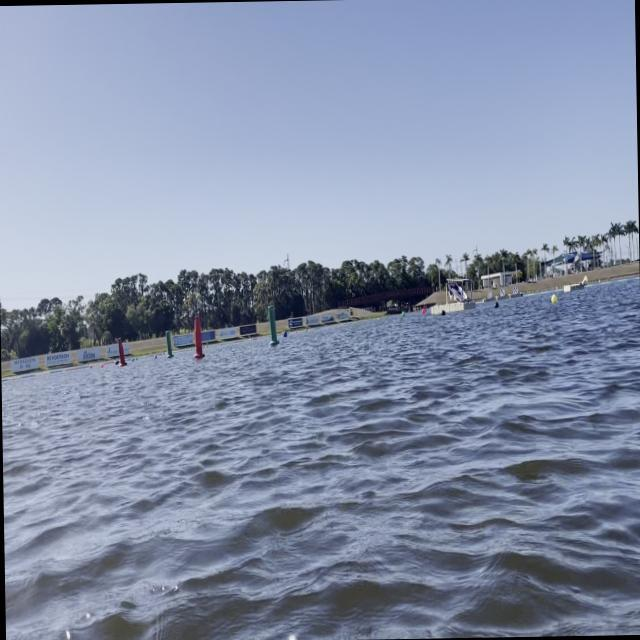buoy: (550, 292, 558, 304), (493, 300, 500, 311), (439, 309, 446, 319), (401, 308, 406, 320), (282, 328, 288, 338), (421, 306, 426, 314), (153, 354, 158, 361), (99, 362, 104, 368), (89, 363, 93, 369), (134, 355, 138, 361), (130, 357, 134, 362)
